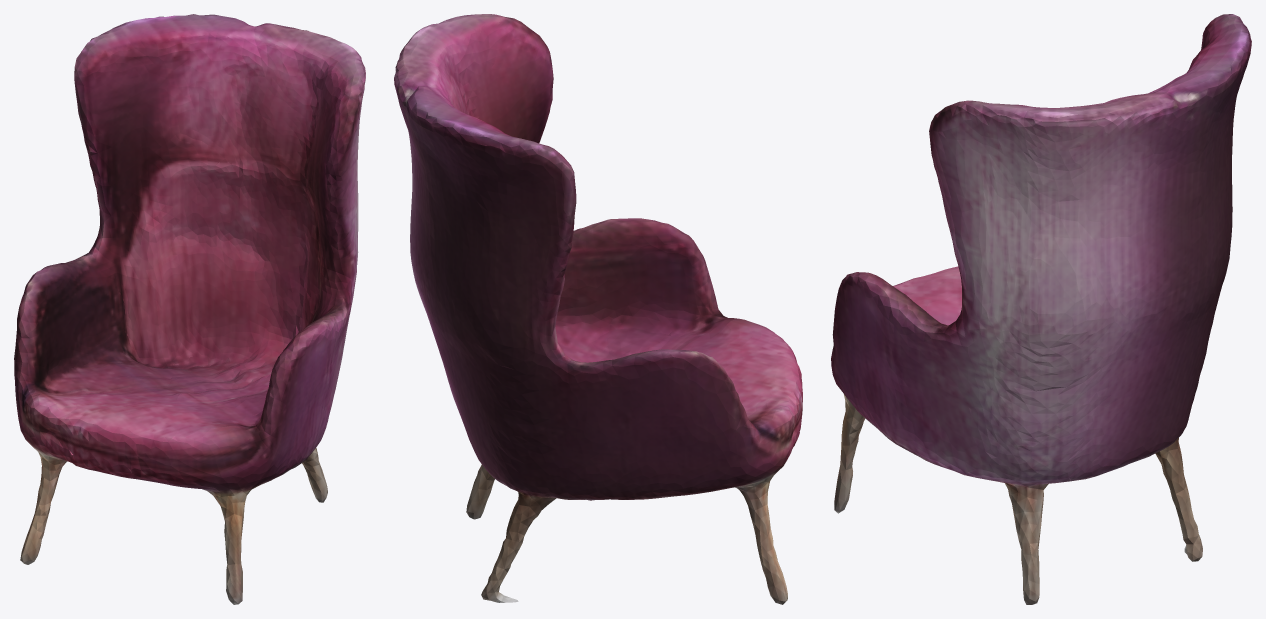
3 views of the same model, side by side, from view 1: azimuth 30°, elevation 25°; view 2: azimuth 150°, elevation 25°; view 3: azimuth 270°, elevation 25° (orthographic). The views are drawn at different scales.
Visible parts, largest first — view 1: mesh.obj; view 2: mesh.obj; view 3: mesh.obj.
Part boxes in pixels (box(x1,y1,x2,y2)): mesh.obj: box(14, 14, 365, 604); mesh.obj: box(394, 14, 802, 604); mesh.obj: box(831, 14, 1251, 604).
Bounding box in the file's own units: 1.36 × 1.72 × 1.27.
1 material, 1 textured.
